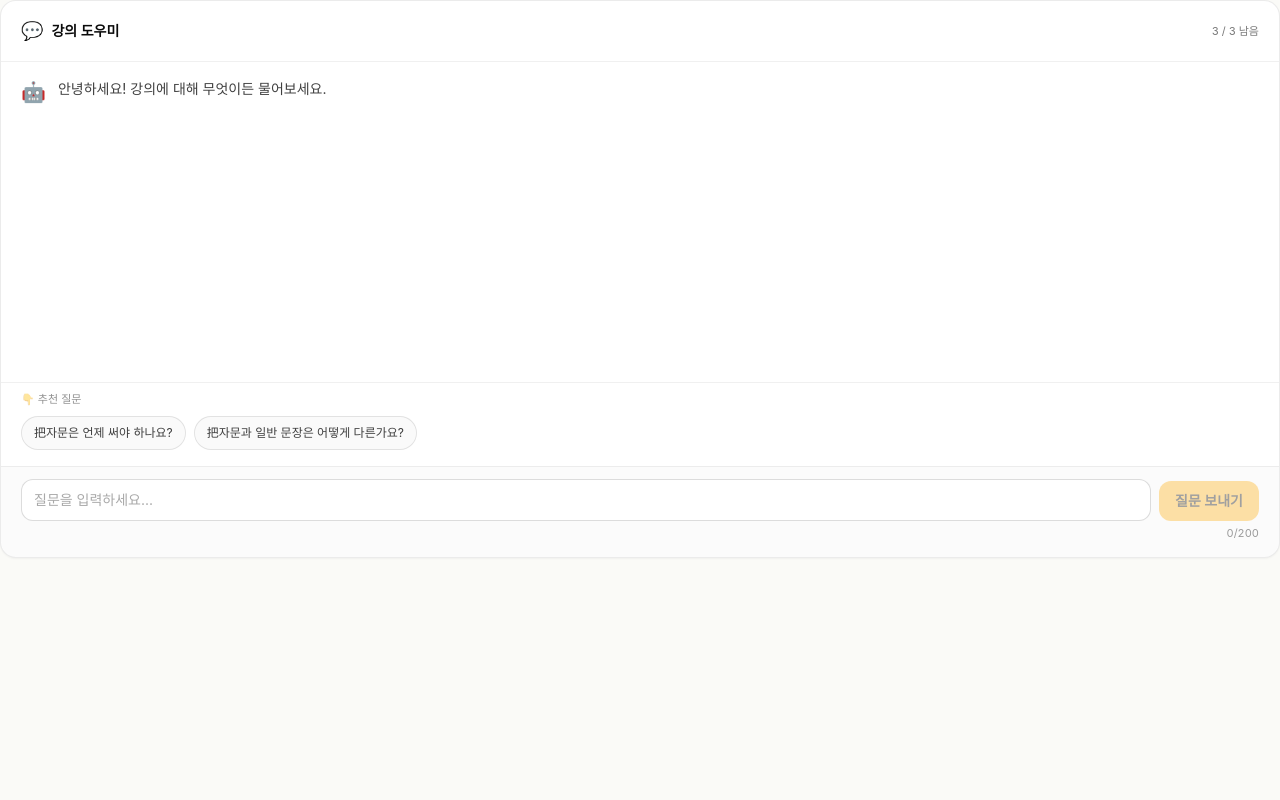
QASimulator › rejects an off-topic free-text question with the RAG-scope message
This screenshot has width=1280, height=800.
In the text box with test id "demo-input": [586, 500] box [21,478,1151,520], type "오늘 점심 뭐 먹지?"
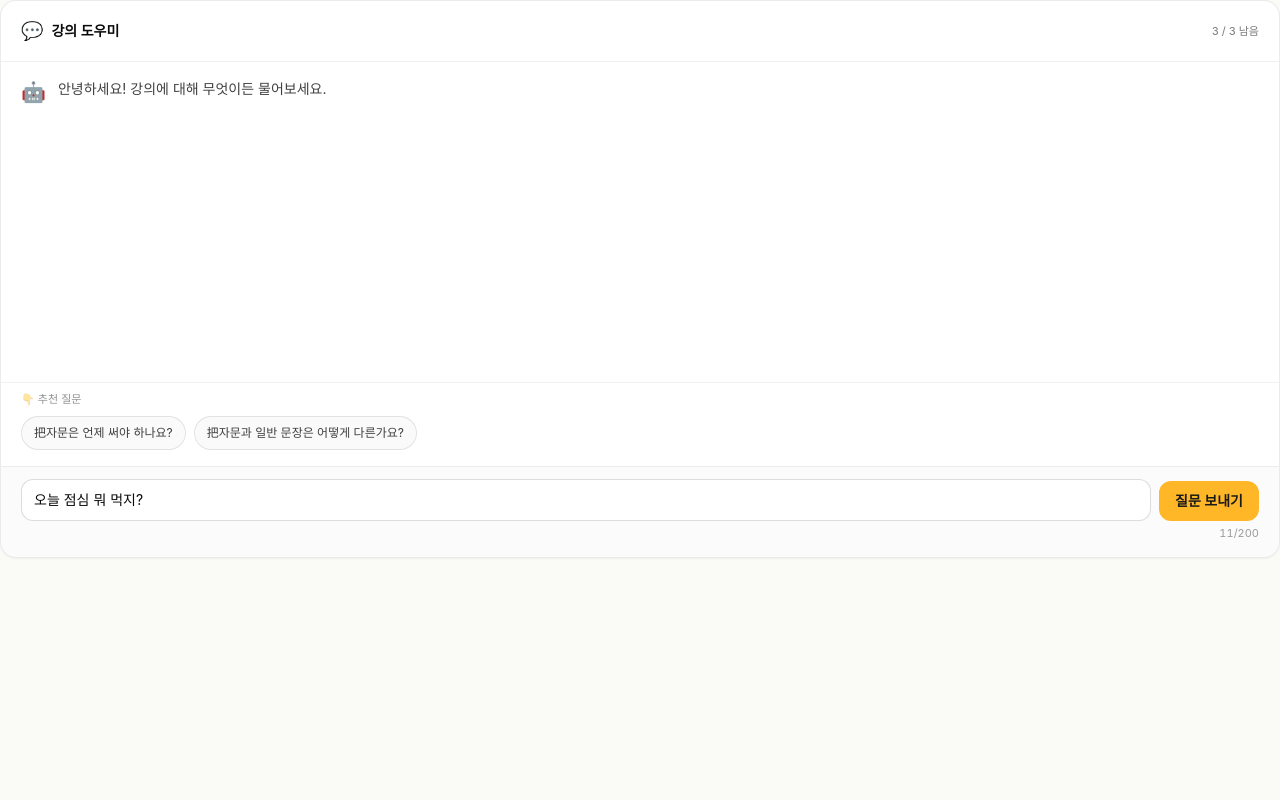
Click the button with test id "demo-send": [1209, 500] box [1159,480,1259,520]
Wait 800 ms
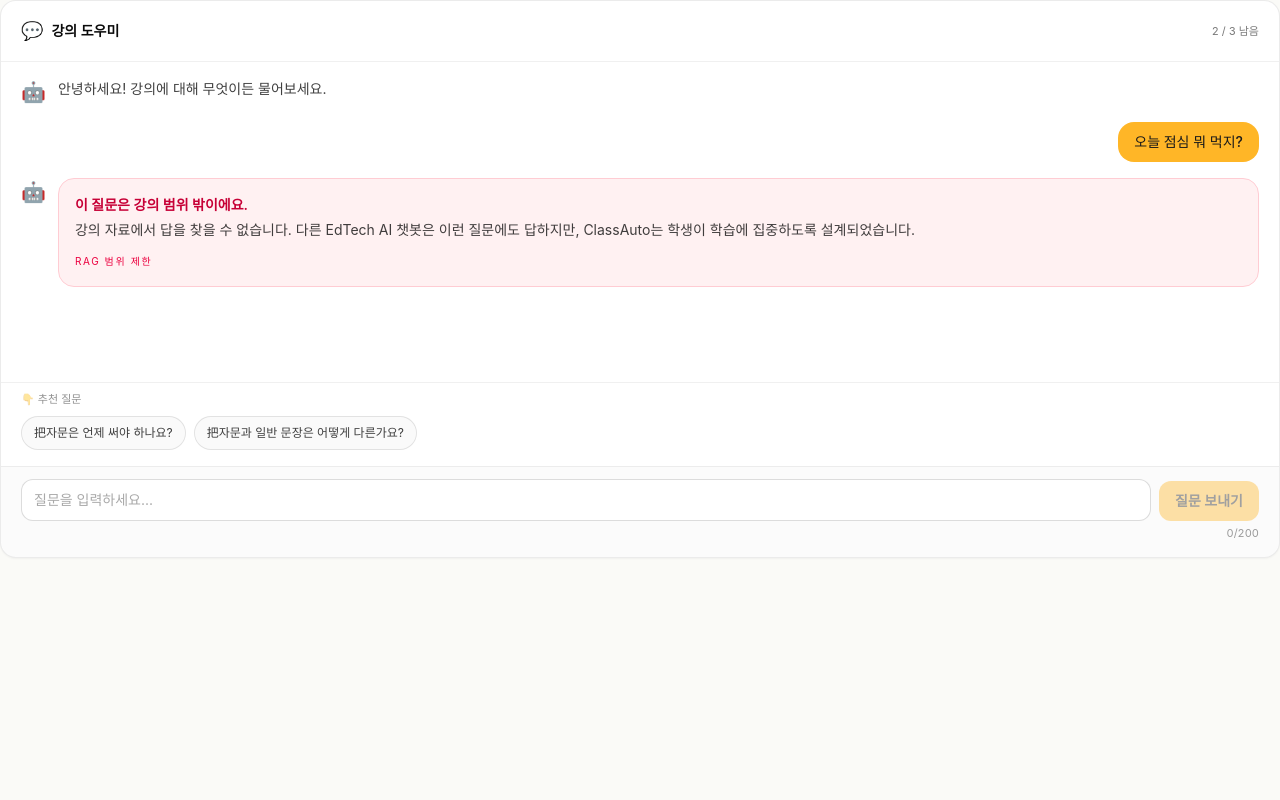
Check: the element with test id "demo-answer-offtopic" is shown, box [21,178,1259,287]
Check: the text "이 질문은 강의 범위 밖이에요." is shown, box [75,196,248,213]
